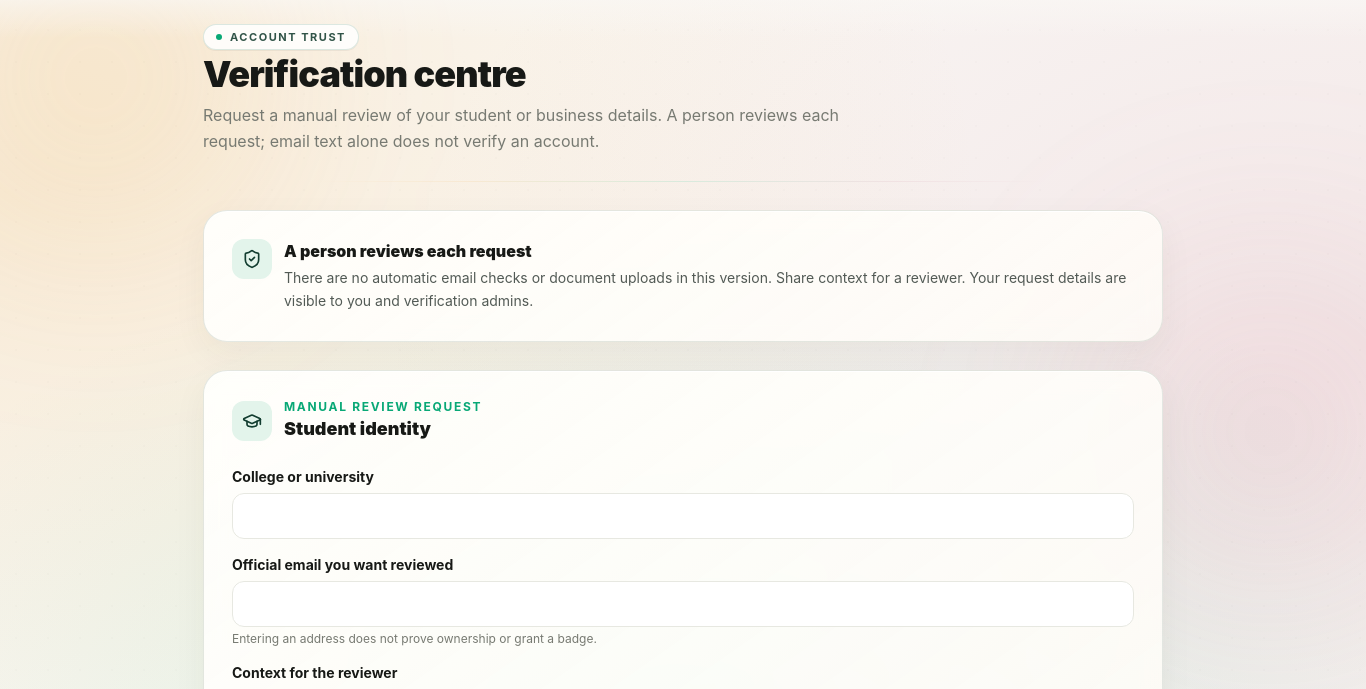
Test: VerificationPage › submits a new request and displays the saved status
The width and height of the screenshot is (1366, 689).
Type "Fergusson College" into the field labelled "College or university".
click(683, 516); type("Fergusson College")  # box [232,493,1134,539]
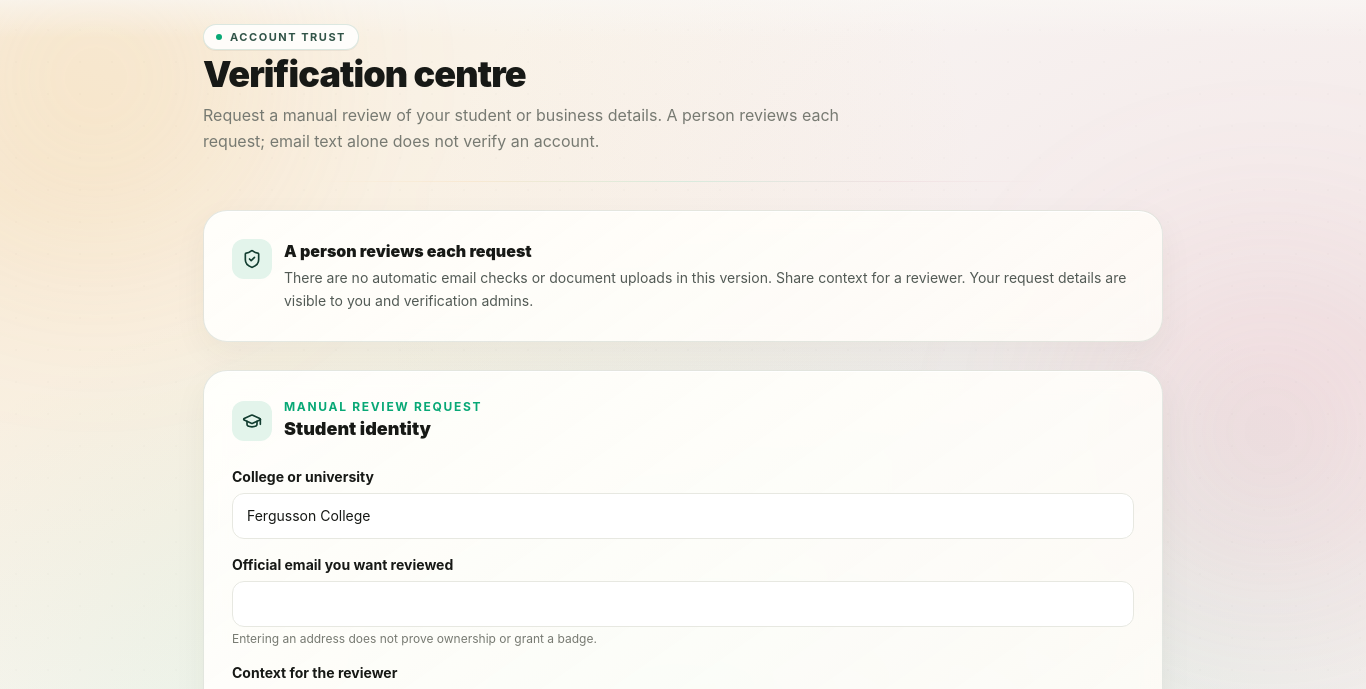
Type "student@college.example" into the field labelled "Official email you want reviewed".
click(683, 604); type("student@college.example")  # box [232,581,1134,627]
(page scrolled)
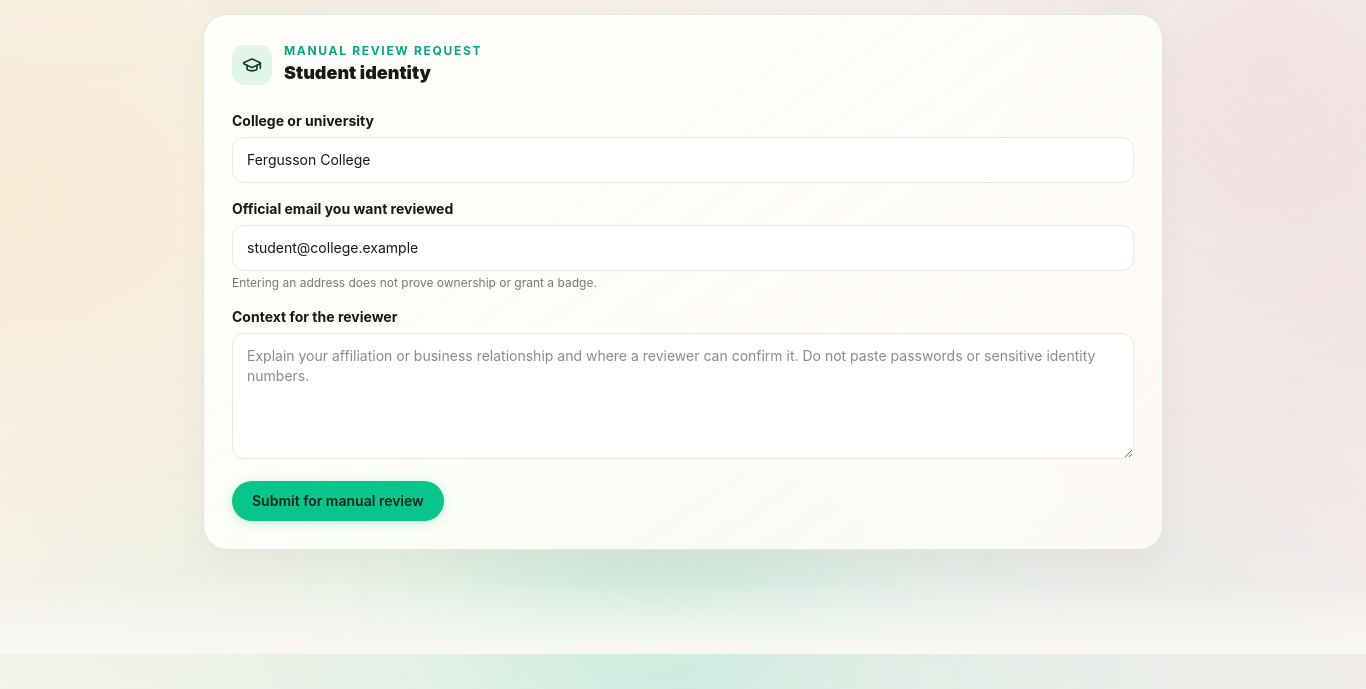
Replace the text in the text box labelled "Context for the reviewer" with "I am currently enrolled in the design program." at (683, 396), box [232,333,1134,459]
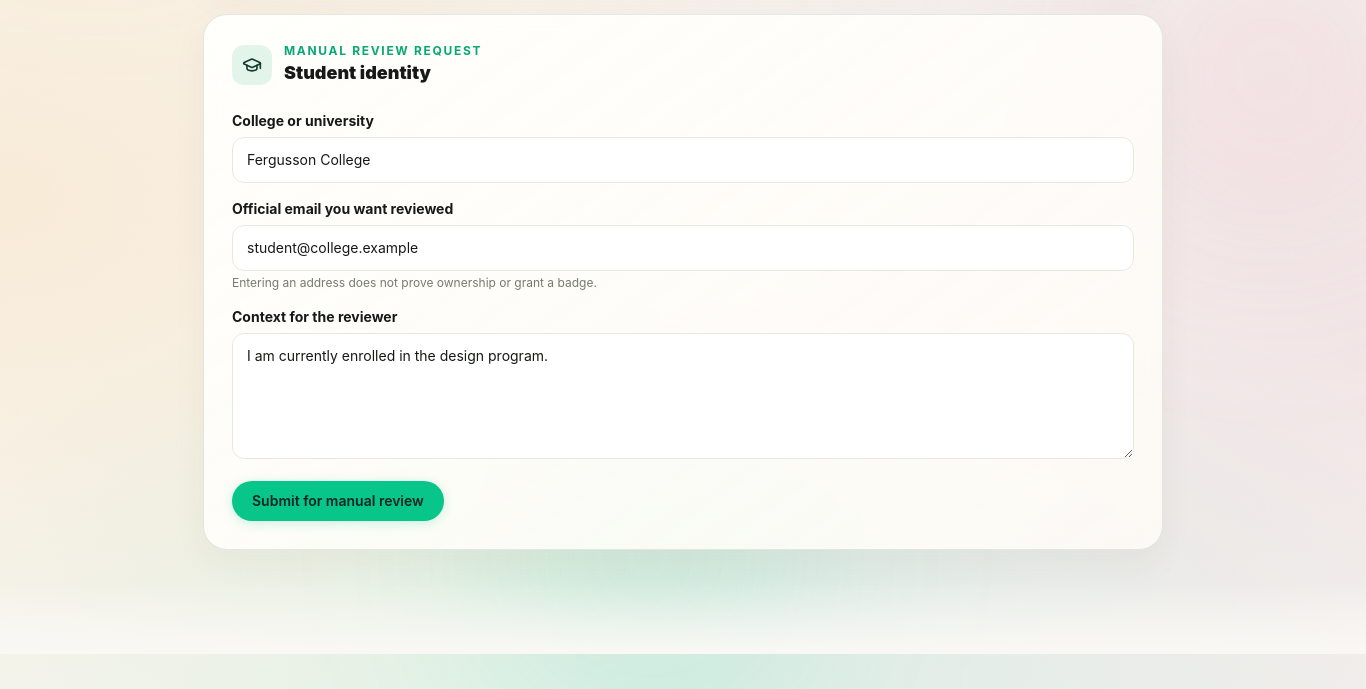
Click the button "Submit for manual review".
click(338, 501)  # box [232,481,444,521]
(page scrolled)
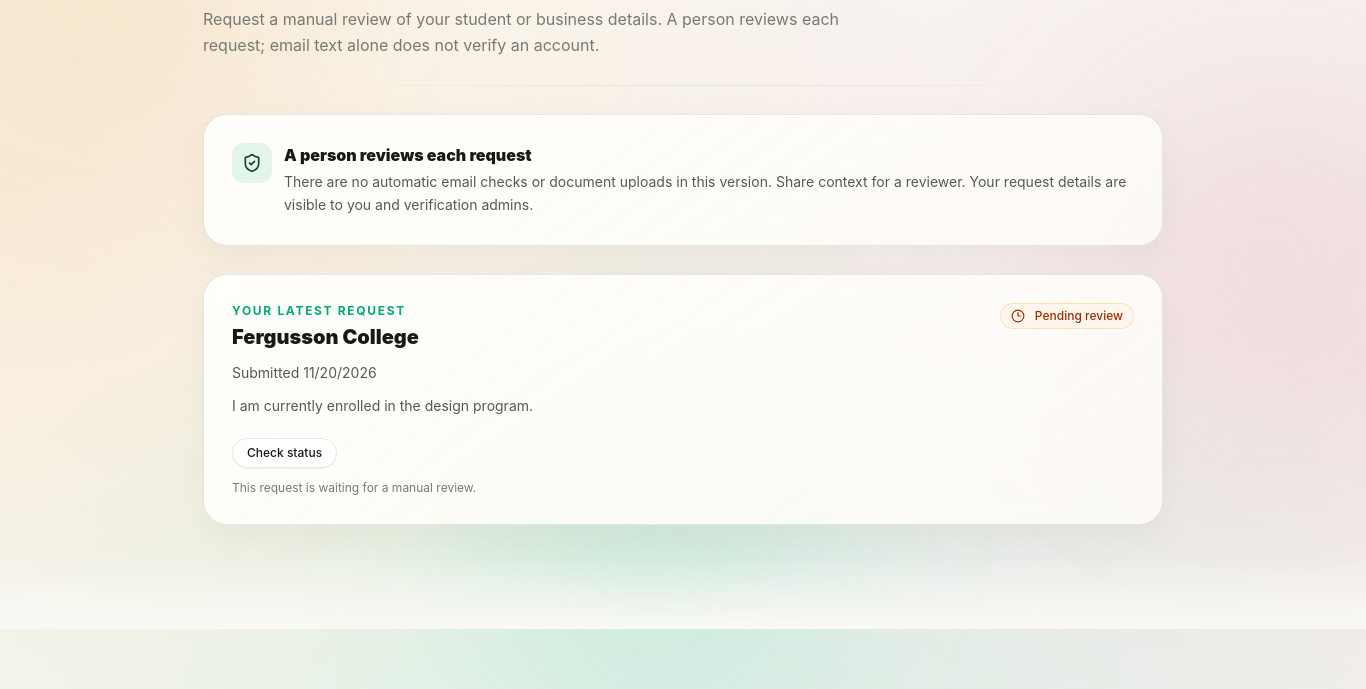
Expected: the text "Pending review" is shown, [1000,303,1134,329]
